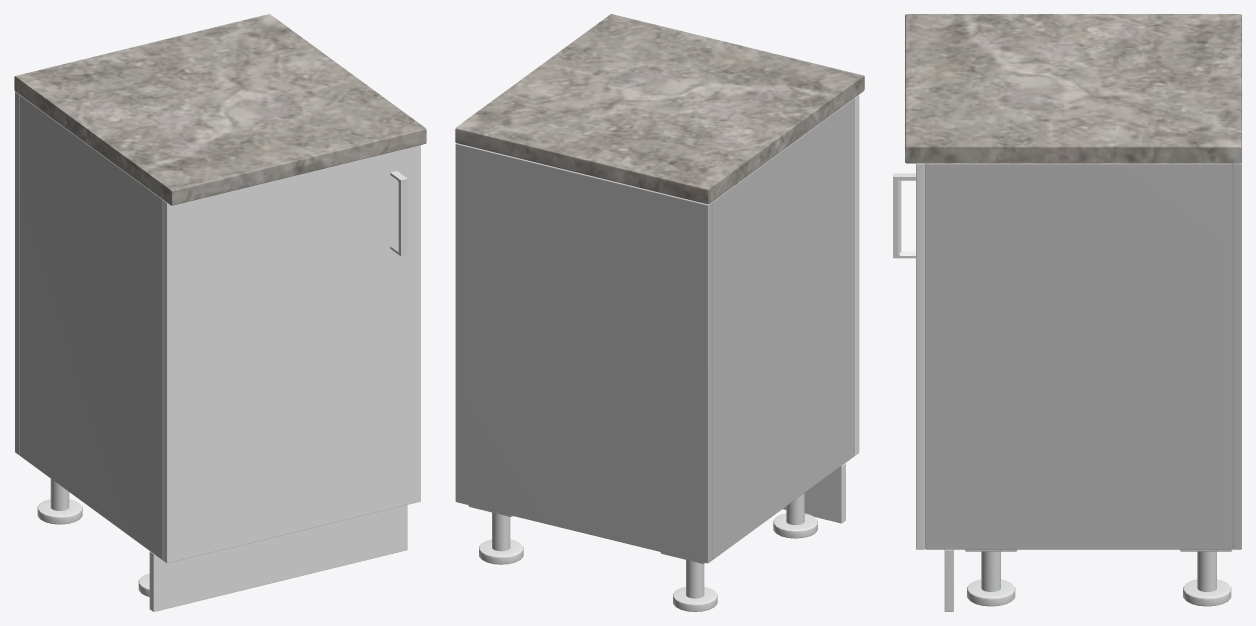
The model's file is kitchen-cabinet-white.glb.
3 views of the same model, side by side, from view 1: azimuth 30°, elevation 25°; view 2: azimuth 150°, elevation 25°; view 3: azimuth 270°, elevation 25° (orthographic). The views are drawn at different scales.
Visible parts, largest first — view 1: Object_4, Object_3, Object_2, Object_6, Object_7, Object_5; view 2: Object_3, Object_2, Object_7, Object_4, Object_6; view 3: Object_3, Object_2, Object_4, Object_7, Object_5, Object_6.
Boxes of the visible parts, <box> form: Object_4: <box>163,145,420,563</box>; Object_3: <box>15,92,162,559</box>; Object_2: <box>14,14,426,205</box>; Object_6: <box>149,505,407,611</box>; Object_7: <box>37,479,149,596</box>; Object_5: <box>390,171,407,256</box>; Object_3: <box>455,98,854,563</box>; Object_2: <box>455,14,864,204</box>; Object_7: <box>479,493,817,611</box>; Object_4: <box>854,95,859,455</box>; Object_6: <box>783,463,845,523</box>; Object_3: <box>925,162,1241,549</box>; Object_2: <box>905,14,1241,163</box>; Object_4: <box>916,163,925,549</box>; Object_7: <box>967,551,1231,606</box>; Object_5: <box>893,173,915,258</box>; Object_6: <box>944,549,953,611</box>.
Size of the model in its own units: 0.5507 by 0.9 by 0.6113.
Materials: 7 (1 with a texture image).
